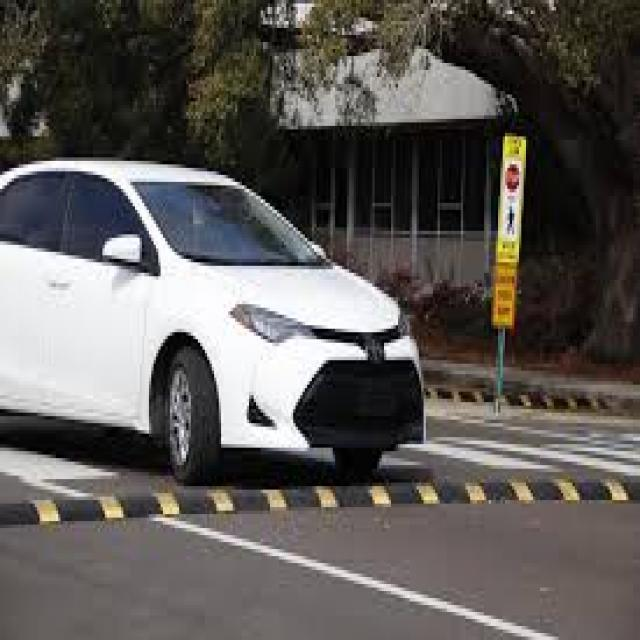Marked Bump: (47, 477, 628, 523)
